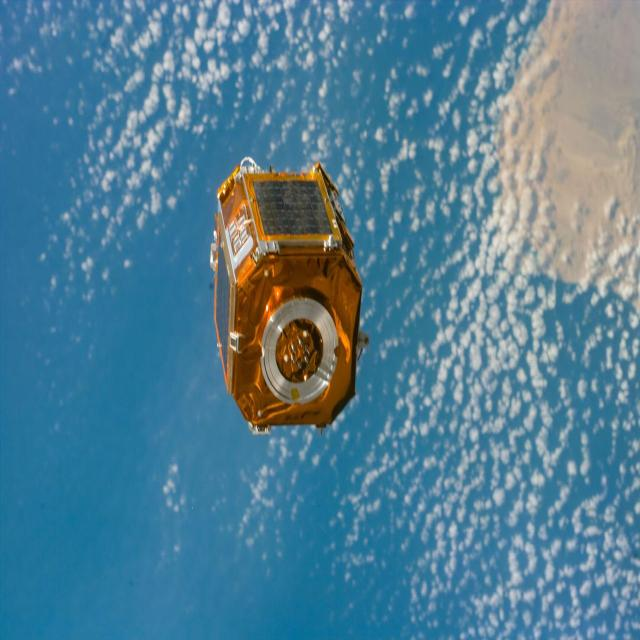satellite: (210, 158, 369, 434)
